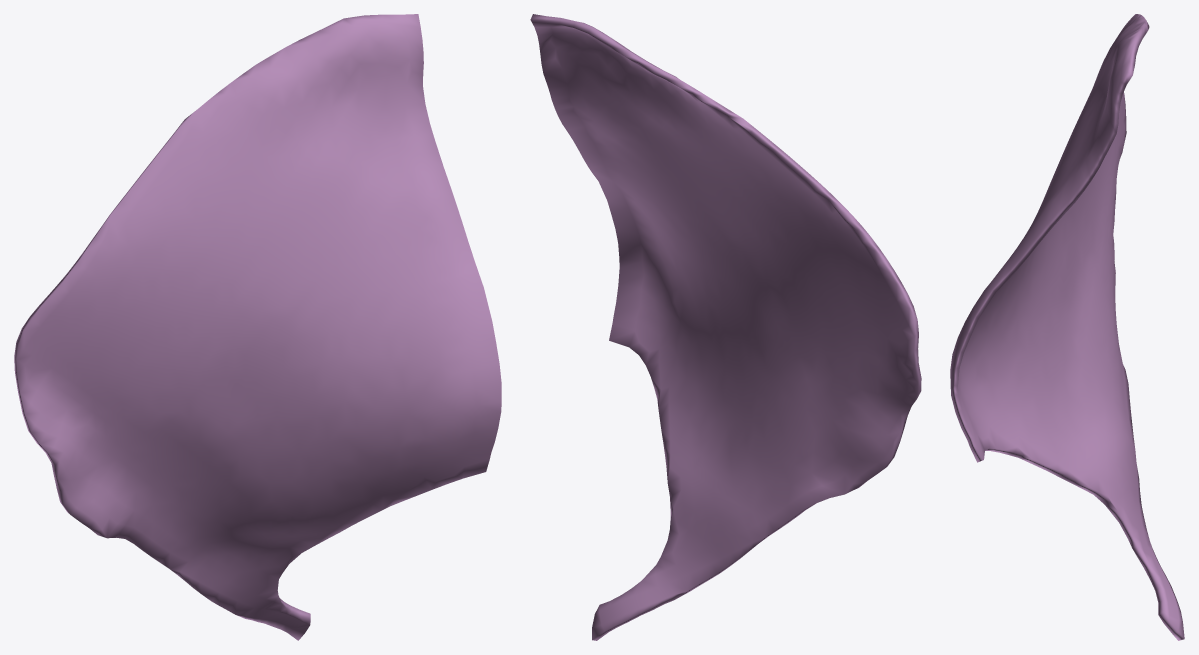
The picture shows the model from 3 angles, left to right: view 1: azimuth 30°, elevation 25°; view 2: azimuth 150°, elevation 25°; view 3: azimuth 270°, elevation 25°; orthographic projection. The views are drawn at different scales.
Parts seen in each view (by area): view 1: 右侧小脑幕; view 2: 右侧小脑幕; view 3: 右侧小脑幕.
Part boxes in pixels (left/top/right/bottom): 右侧小脑幕: left=14, top=14, right=501, bottom=640; 右侧小脑幕: left=530, top=14, right=921, bottom=640; 右侧小脑幕: left=950, top=14, right=1184, bottom=640.
Size of the model in its own units: 0.0897 by 0.1333 by 0.0456.
